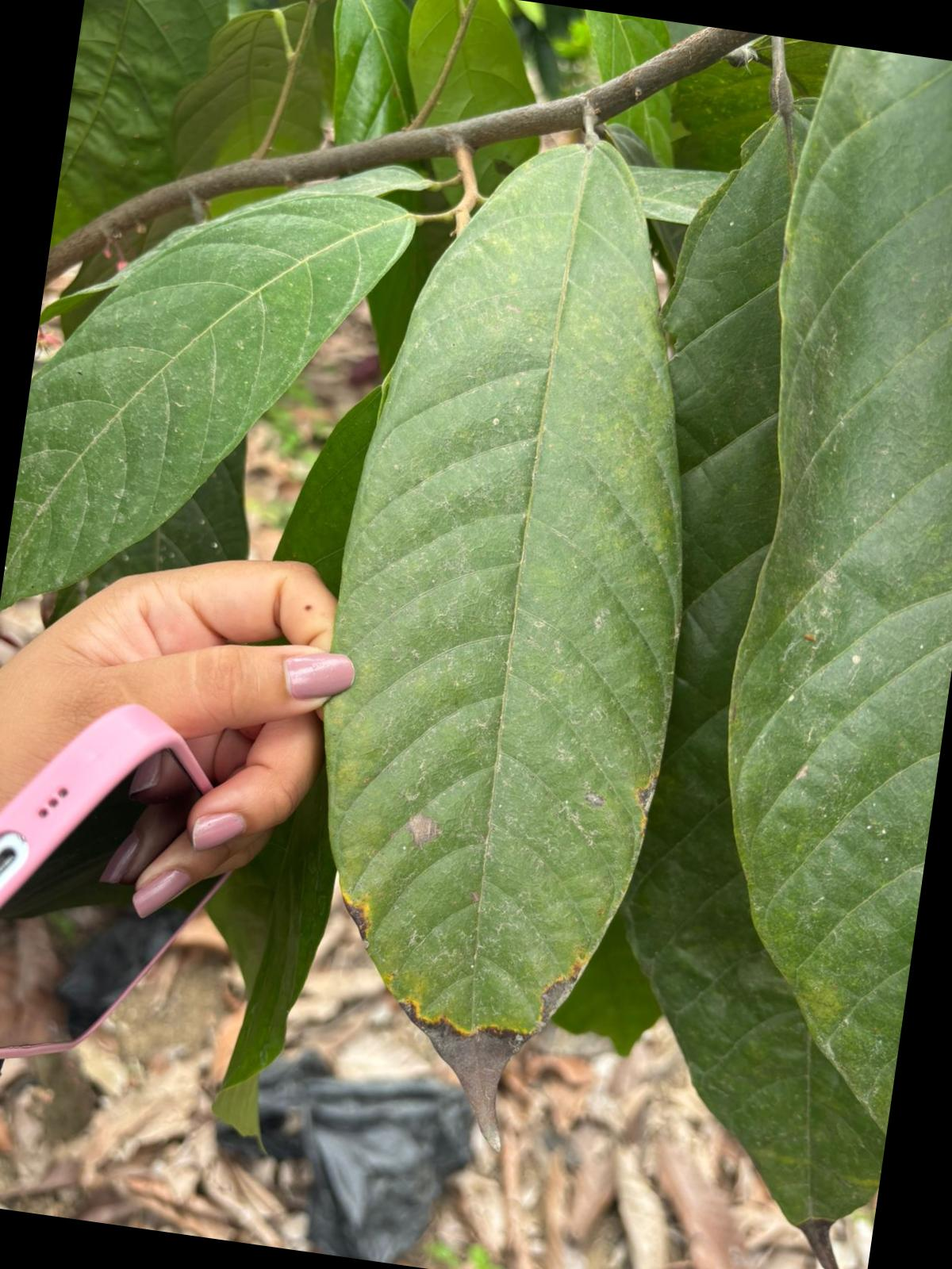Potasio: (324, 143, 680, 1133)
